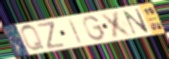G: (82, 15, 106, 42)
I: (67, 18, 84, 45)
N: (122, 7, 151, 36)
Q: (20, 24, 47, 52)
X: (99, 10, 135, 39)
Z: (36, 21, 67, 51)
